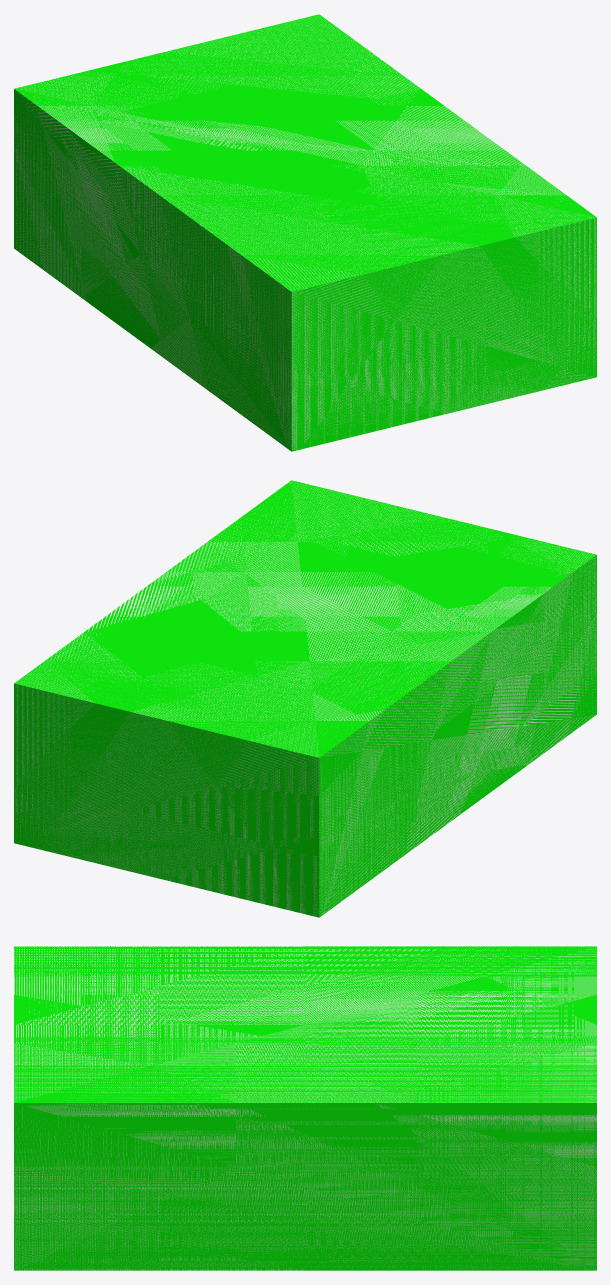
The model's file is car1_planar_robot_green.dae.
3 views of the same model, one above another, from view 1: azimuth 30°, elevation 25°; view 2: azimuth 150°, elevation 25°; view 3: azimuth 270°, elevation 25° (orthographic). The views are drawn at different scales.
Visible parts, largest first — view 1: instance_0; view 2: instance_0; view 3: instance_0.
Part boxes in pixels (x1,y1,x2,y2): instance_0: [14, 14, 596, 451]; instance_0: [14, 480, 596, 917]; instance_0: [14, 946, 596, 1270].
Size of the model in its own units: 5 by 7.87 by 2.5.
